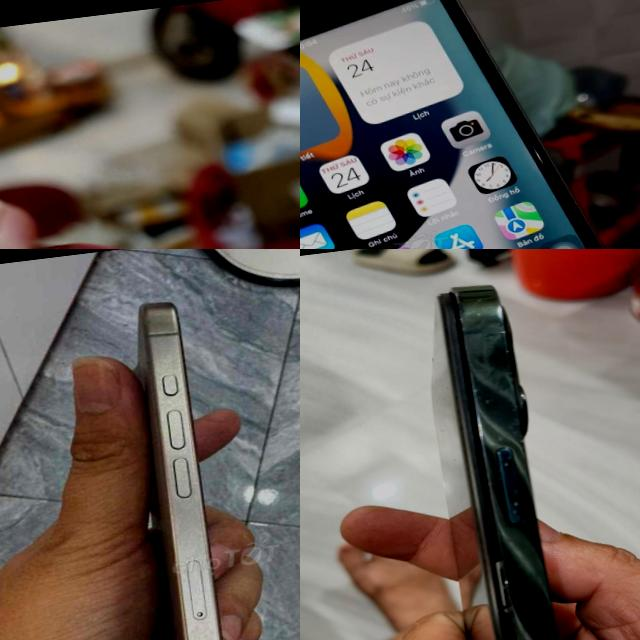gen_11: (22, 181, 300, 249)
gen_12_13: (402, 269, 624, 640)
gen_15: (78, 279, 291, 640)
gen_6: (300, 0, 605, 249)
